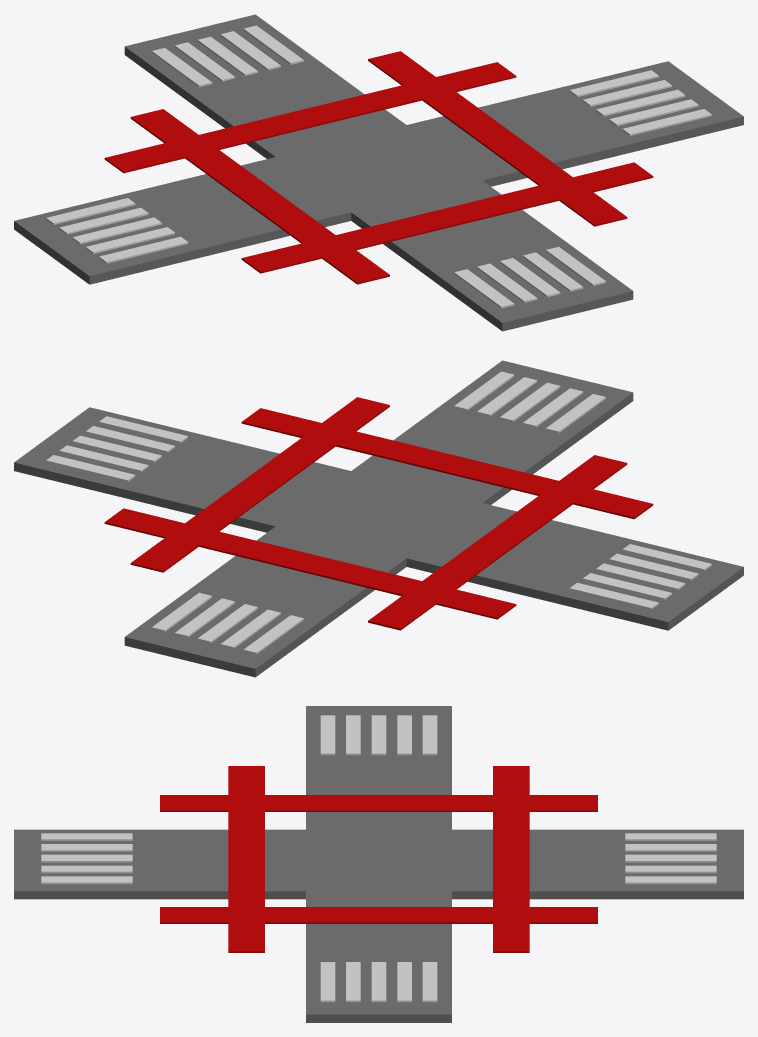
Rendered from intersection_model.glb.
The picture shows the model from 3 angles, top to bottom: view 1: azimuth 30°, elevation 25°; view 2: azimuth 150°, elevation 25°; view 3: azimuth 270°, elevation 25°; orthographic projection. The views are drawn at different scales.
Parts seen in each view (by area): view 1: world; view 2: world; view 3: world.
Part boxes in pixels (bbox=[...]): world: bbox=[14, 14, 743, 331]; world: bbox=[14, 360, 743, 677]; world: bbox=[14, 706, 743, 1022].
Size of the model in its own units: 4 by 0.065 by 4.
